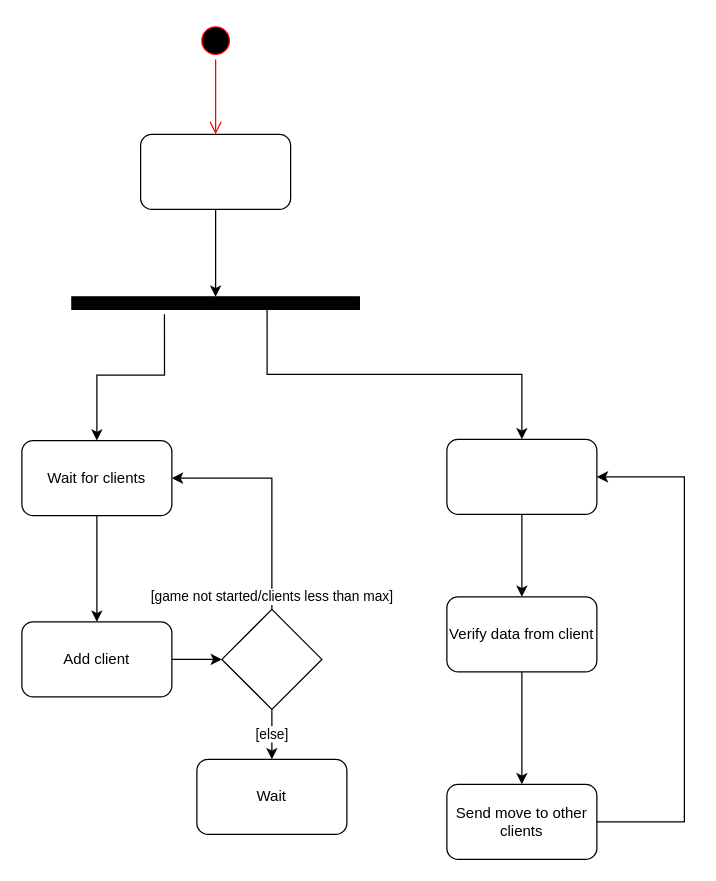
Image size: 716x881. Some labels were removed from this diagram. Here are the shapes that lost their labels. From the top down, the centre of each, then its label:
point (215, 171): Establish server
point (521, 476): Receive data from client
